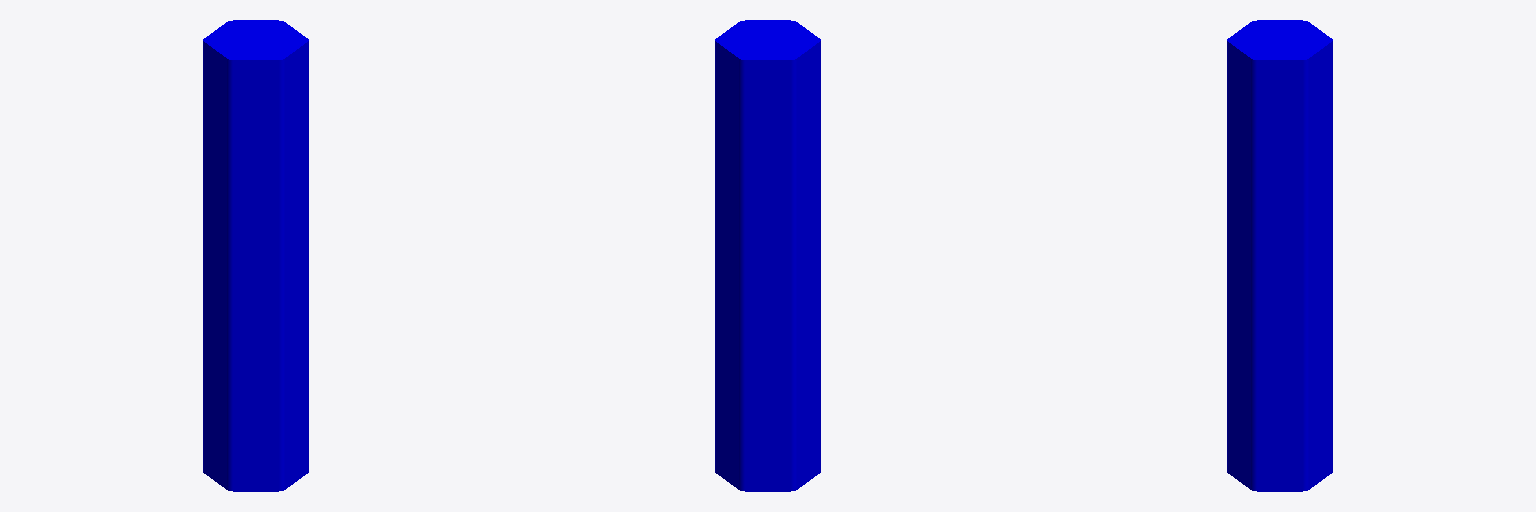
URDF robot description (board3_block17):
<?xml version="1.0"?>
<robot name="board3_block17">
    <link name="board3_block17">
        <visual>
            <origin xyz="0 0 0 " rpy=" 0 0 0"/>
            <geometry>
                <mesh filename="../meshes/SIMO_Board3_Block17.stl" scale="0.001 0.001 0.001"/>
            </geometry>
            <material name="red">
                <color rgba="0.0 0.0 1.0 1.0"/>
            </material>
        </visual>
        <collision>
            <origin xyz="0 0 0" rpy="0 0 0"/>
            <geometry>
                <mesh filename="../meshes/SIMO_Board3_Block17.stl" scale="0.001 0.001 0.001"/>
            </geometry>
        </collision>
    </link>
</robot>

--- What the picture shows (computed from the rendered views, not written in the file) ---
3 views of the same robot in one strip: view 1: azimuth 30°, elevation 25°; view 2: azimuth 150°, elevation 25°; view 3: azimuth 270°, elevation 25° (orthographic).
Model board3_block17 with 1 links and 0 joints (none), rooted at board3_block17, posed all joints at 0.
Links seen in each view (by area): view 1: board3_block17; view 2: board3_block17; view 3: board3_block17.
Link boxes in pixels (x1,y1,x2,y2): board3_block17: [203, 20, 308, 491]; board3_block17: [715, 20, 820, 491]; board3_block17: [1227, 20, 1332, 491].
Size in the robot's own frame: 0.0294 by 0.0332 by 0.15 metres.
1 mesh visuals loaded from 1 distinct referenced files (1 ASCII STL).
